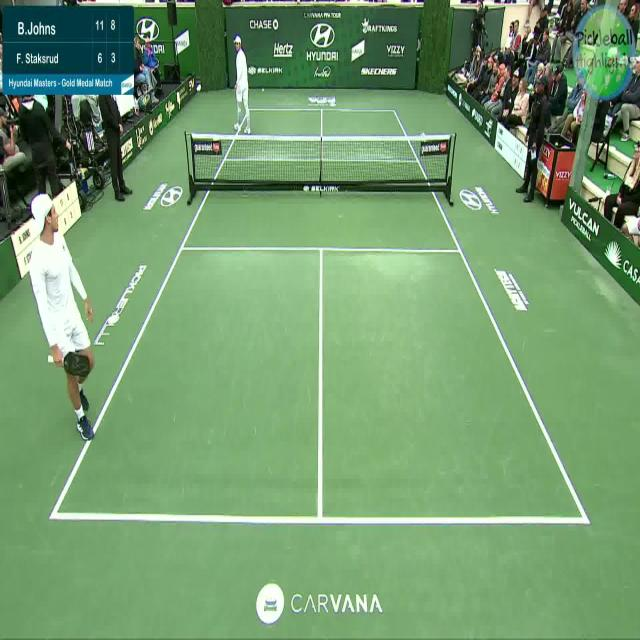ball: (261, 85, 267, 96)
